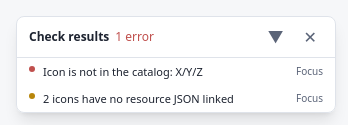
Test case: the check-results panel › collapses
The image size is (348, 125).
What coordinates should you click on to do the following:
click the button named "Collapse"
I would click on:
 (276, 37)
Its box is [261, 25, 290, 49].
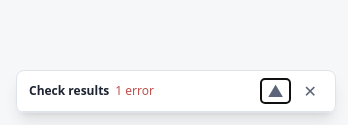
Result: the button "not in the catalog" is gone
